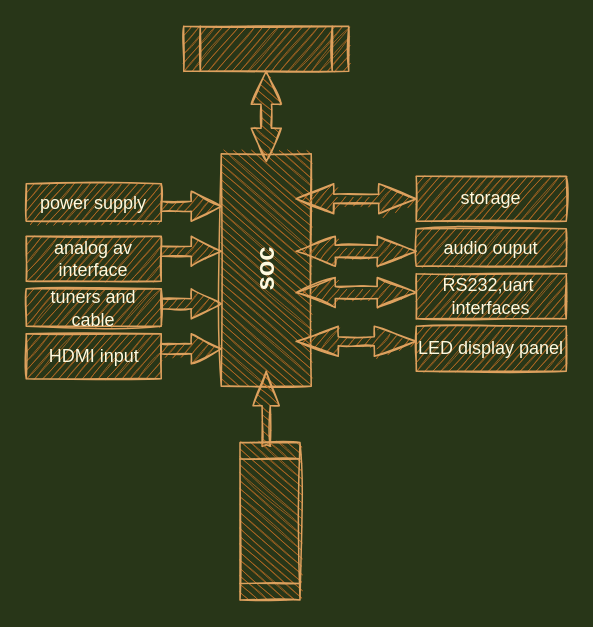
This 593x627 diagram has some shape labels left out. The shapes that lost their labels are listed below. From the top down, each one's centre as x and y in pixels, then its label:
At point (265, 48): "SDRAM".
At point (269, 520): "Rf remote".
